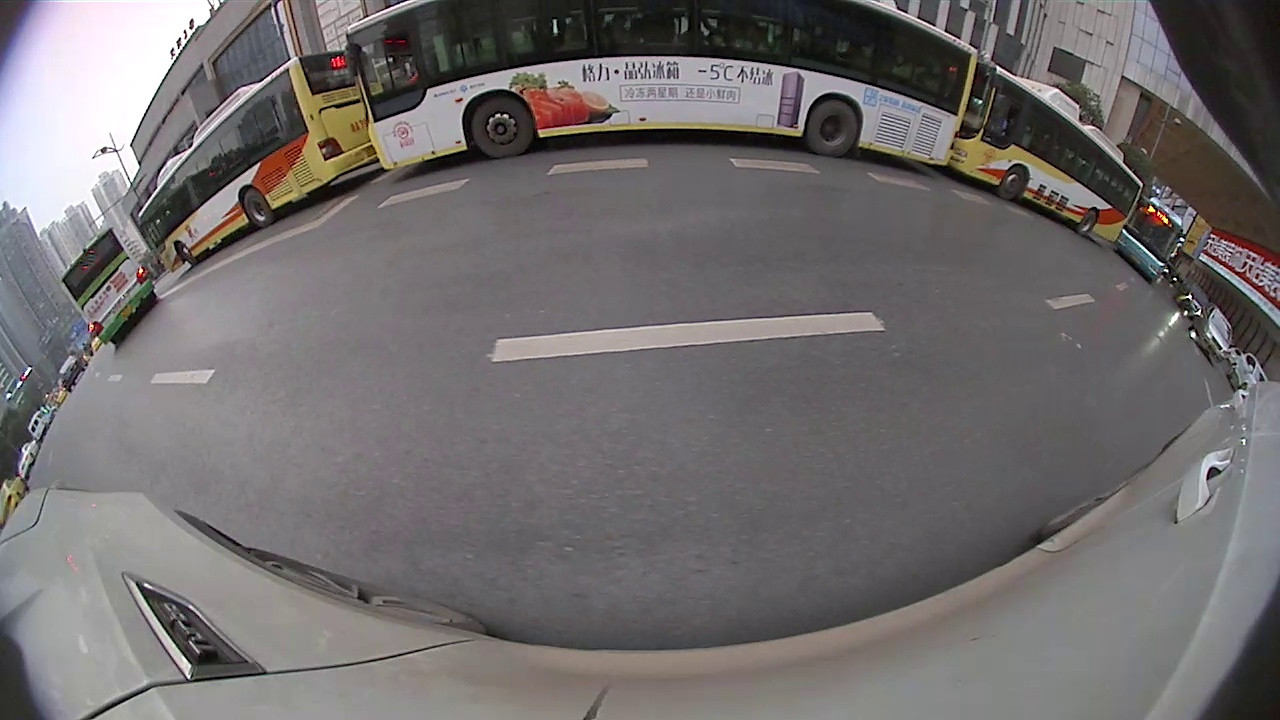bus: (344, 2, 981, 172), (128, 46, 374, 273), (957, 62, 1143, 251), (53, 229, 159, 350), (1114, 198, 1186, 289)
car: (1189, 300, 1240, 363)
front: (1001, 160, 1028, 204)
rear: (809, 97, 861, 160), (811, 99, 859, 157), (238, 191, 276, 228), (1080, 206, 1100, 238)
